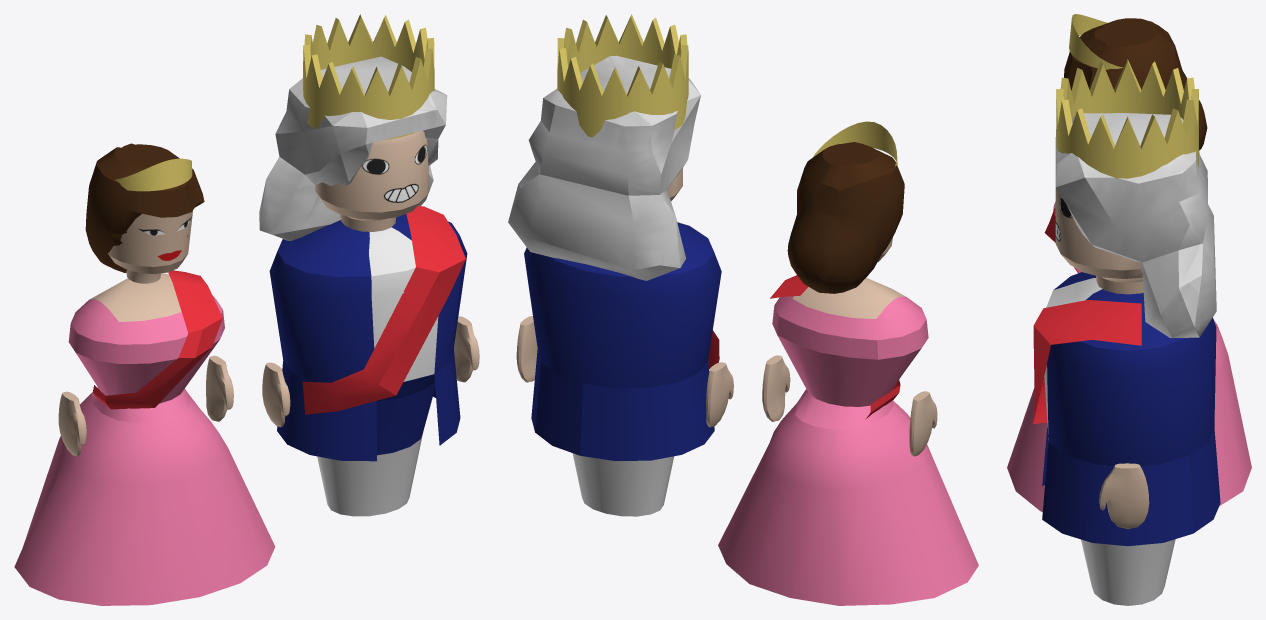
The model's file is re e regina.fbx.
3 renders of one model, left to right at view 1: azimuth 30°, elevation 25°; view 2: azimuth 150°, elevation 25°; view 3: azimuth 270°, elevation 25°, orthographic. The views are drawn at different scales.
Parts seen in each view (by area): view 1: vestito donna.002, vestito uomo.004, testa uomo.002, testa donna.002, mani donna.002, mani uomo.002; view 2: vestito donna.002, vestito uomo.004, testa uomo.002, testa donna.002, mani donna.002, mani uomo.002; view 3: vestito uomo.004, testa uomo.002, vestito donna.002, testa donna.002, mani uomo.002.
Part boxes in pixels (bbox=[...]): vestito donna.002: bbox=[14, 270, 275, 605]; vestito uomo.004: bbox=[269, 206, 467, 516]; testa uomo.002: bbox=[259, 14, 447, 241]; testa donna.002: bbox=[85, 143, 204, 283]; mani donna.002: bbox=[58, 355, 233, 456]; mani uomo.002: bbox=[262, 316, 479, 427]; vestito donna.002: bbox=[718, 275, 978, 605]; vestito uomo.004: bbox=[524, 221, 721, 516]; testa uomo.002: bbox=[508, 14, 700, 280]; testa donna.002: bbox=[787, 121, 904, 293]; mani donna.002: bbox=[762, 355, 937, 456]; mani uomo.002: bbox=[516, 316, 733, 427]; vestito uomo.004: bbox=[1033, 272, 1220, 605]; testa uomo.002: bbox=[1055, 59, 1216, 338]; vestito donna.002: bbox=[1007, 201, 1251, 511]; testa donna.002: bbox=[1064, 14, 1207, 150]; mani uomo.002: bbox=[1099, 463, 1149, 528].
Size of the model in its own units: 241 by 240 by 107.
Materials: 7 (1 with a texture image).
